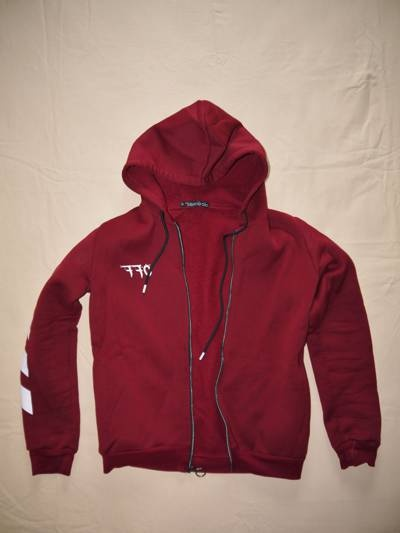Hoodie: (19, 91, 383, 497)
